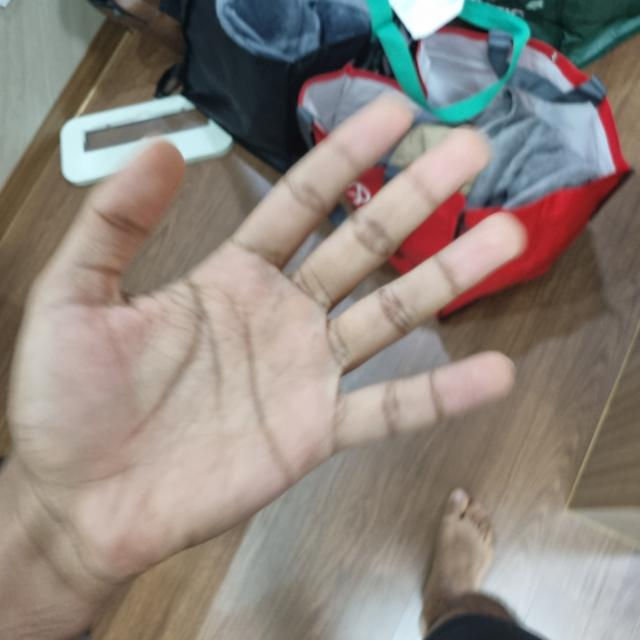Paper: (8, 87, 523, 593)
